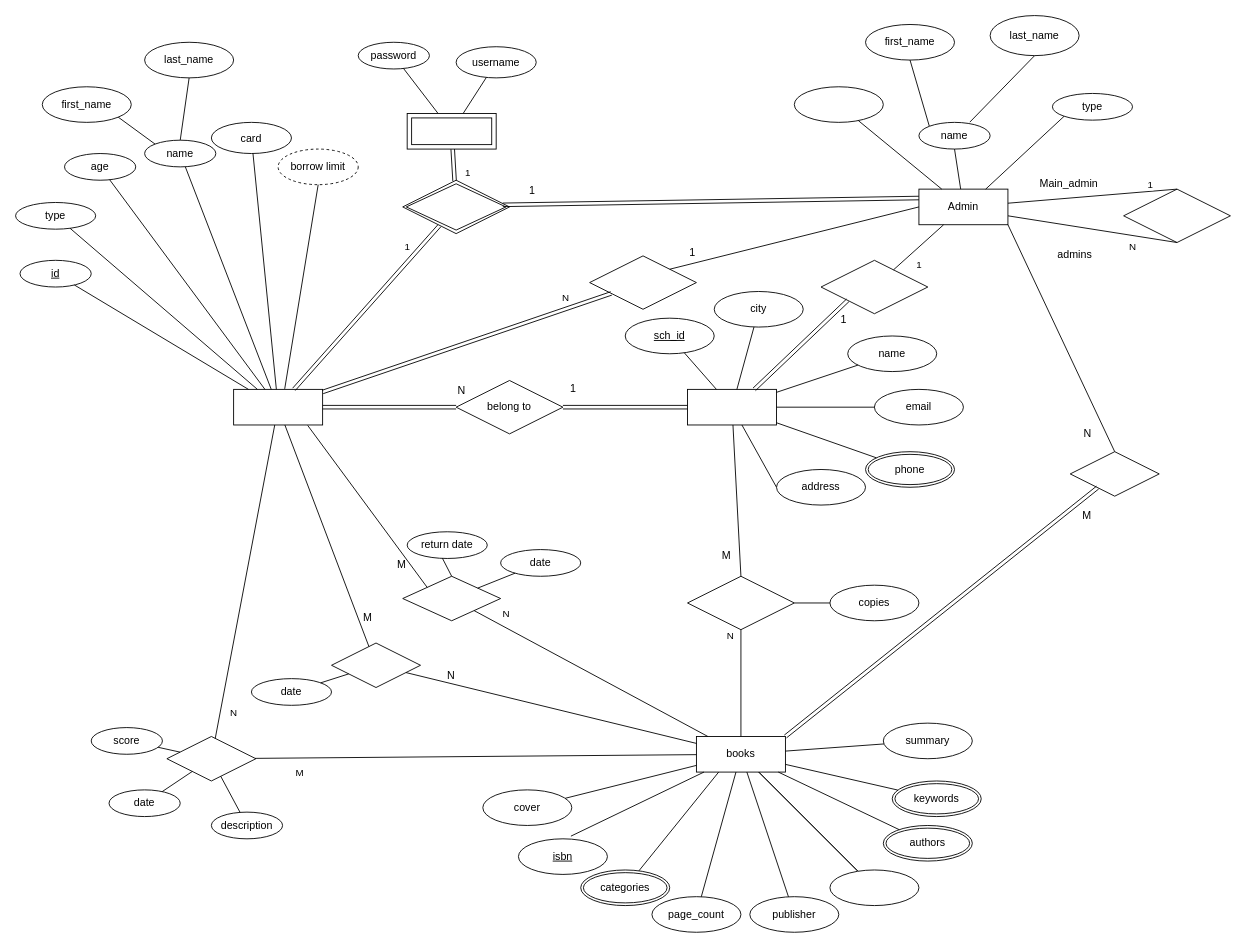
This 1246x948 diagram has some shape labels left out. The centre of each missing label's shape, as x and y in pixels:
Admin_id: the point at 838,104
admins_approval: the point at 1176,215
authentication: the point at 451,131
borrow: the point at 451,598
logins: the point at 456,206
manage: the point at 1114,473
request: the point at 376,665
review: the point at 211,758
school: the point at 732,406
stores: the point at 740,602
title: the point at 874,887
user: the point at 278,406
user_uproval: the point at 642,282
works_in: the point at 874,286
